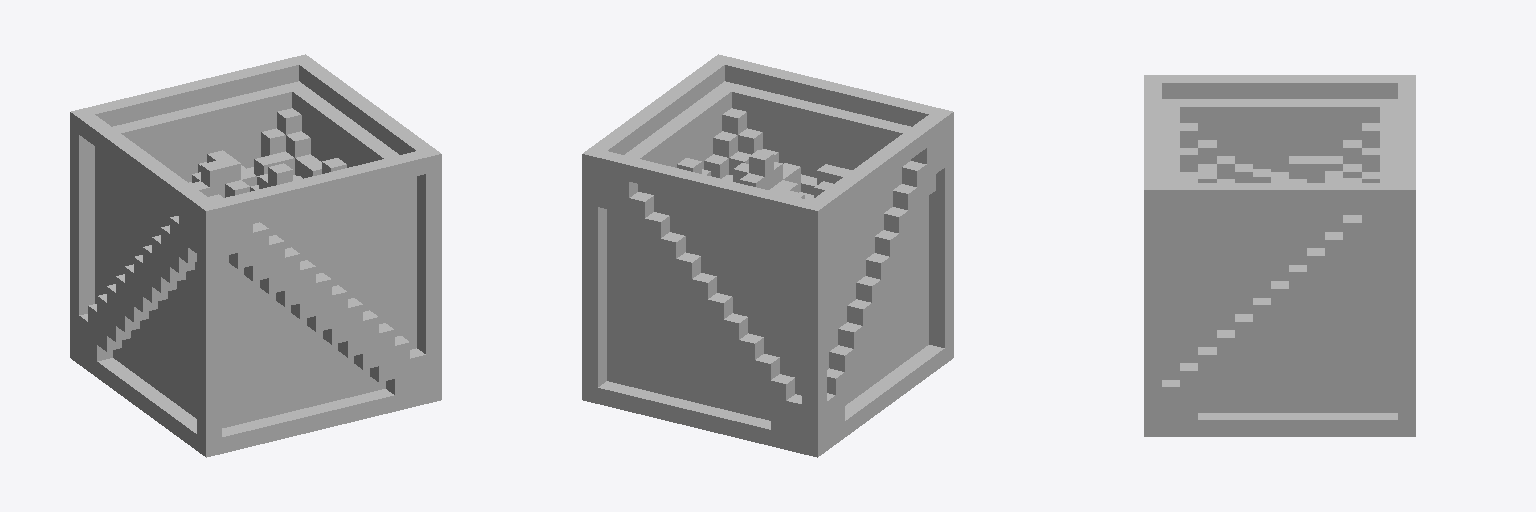
The model's file is caixote abertasso.obj.
The picture shows the model from 3 angles: view 1: azimuth 30°, elevation 25°; view 2: azimuth 150°, elevation 25°; view 3: azimuth 270°, elevation 25°; orthographic projection.
Visible parts, largest first — view 1: object 1; view 2: object 1; view 3: object 1.
Part boxes in pixels (bbox=[...]): object 1: bbox=[70, 54, 441, 457]; object 1: bbox=[582, 54, 953, 457]; object 1: bbox=[1144, 75, 1415, 436].
Size of the model in its own units: 1.5 by 1.5 by 1.5.